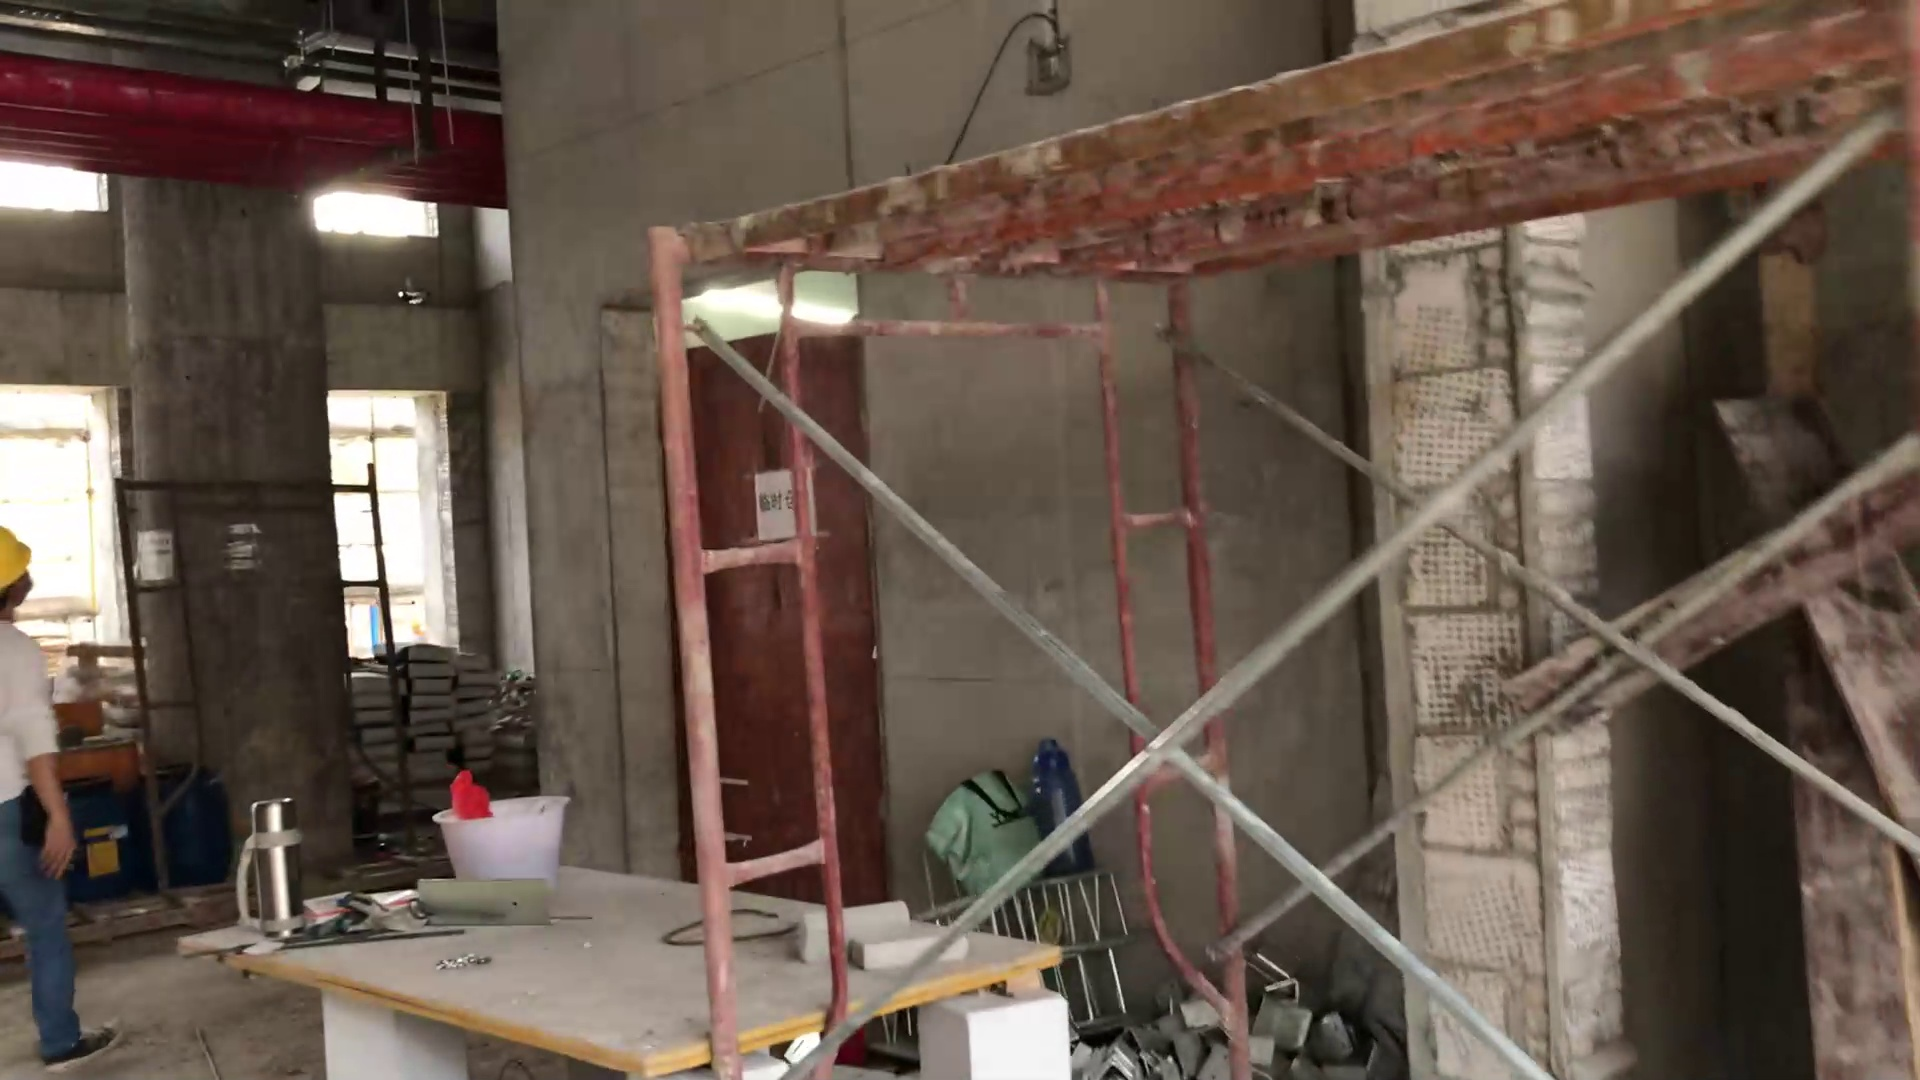helmet: (1, 519, 31, 591)
person: (3, 521, 122, 1074)
